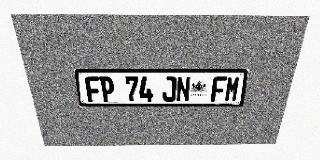4: (139, 76, 153, 102)
7: (124, 76, 139, 102)
F: (84, 76, 101, 102), (210, 76, 227, 101)
J: (162, 76, 176, 102)
M: (224, 76, 241, 101)
N: (176, 76, 191, 102)
P: (99, 76, 115, 102)
